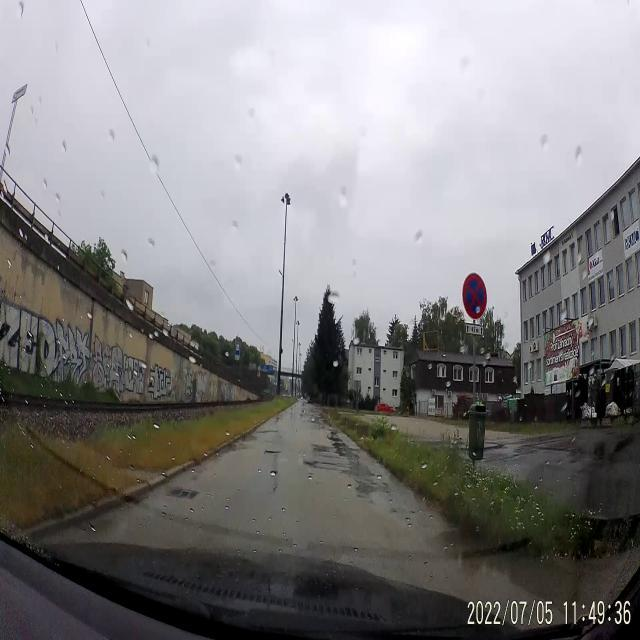Manhole: (167, 484, 200, 501)
Pothole: (302, 456, 340, 478), (309, 440, 334, 455), (254, 427, 280, 437), (264, 446, 282, 459)
